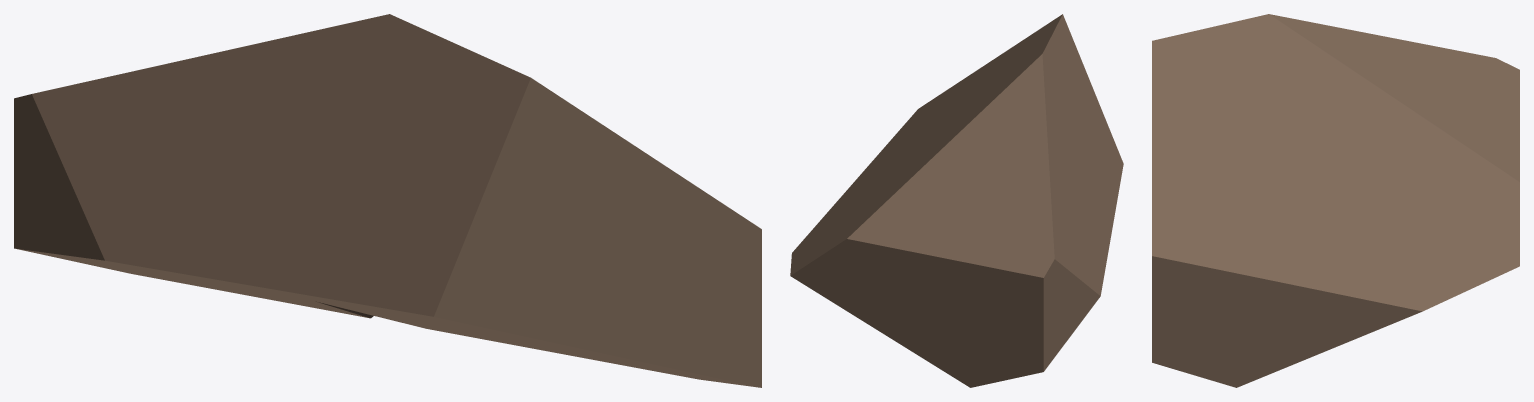
File: JaggedRock2.fbx
3 renders of one model, left to right at view 1: azimuth 30°, elevation 25°; view 2: azimuth 150°, elevation 25°; view 3: azimuth 270°, elevation 25°, orthographic. The views are drawn at different scales.
Visible parts, largest first — view 1: JaggedRock2; view 2: JaggedRock2; view 3: JaggedRock2.
Part boxes in pixels (left/top/right/bottom): JaggedRock2: left=14, top=14, right=761, bottom=387; JaggedRock2: left=790, top=14, right=1123, bottom=387; JaggedRock2: left=1152, top=14, right=1519, bottom=387.
Size of the model in its own units: 70.62 by 59.44 by 70.62.
